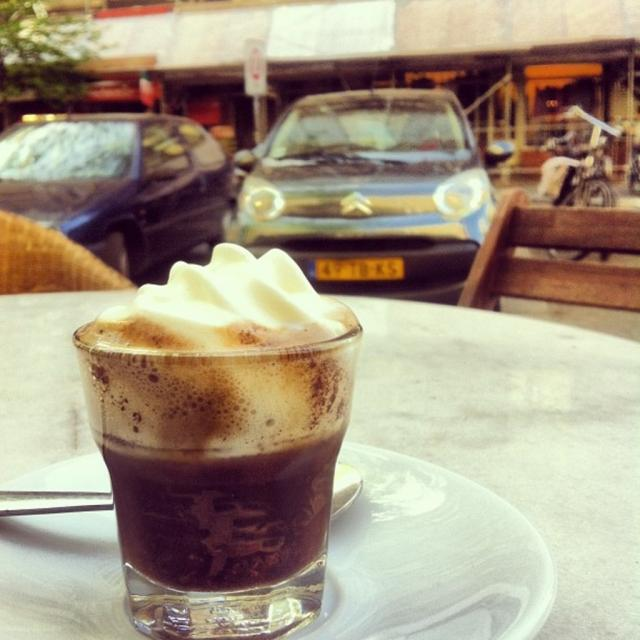Coffee: (76, 256, 359, 635)
